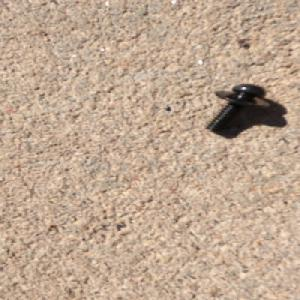BoltWasher: (201, 79, 269, 131)
